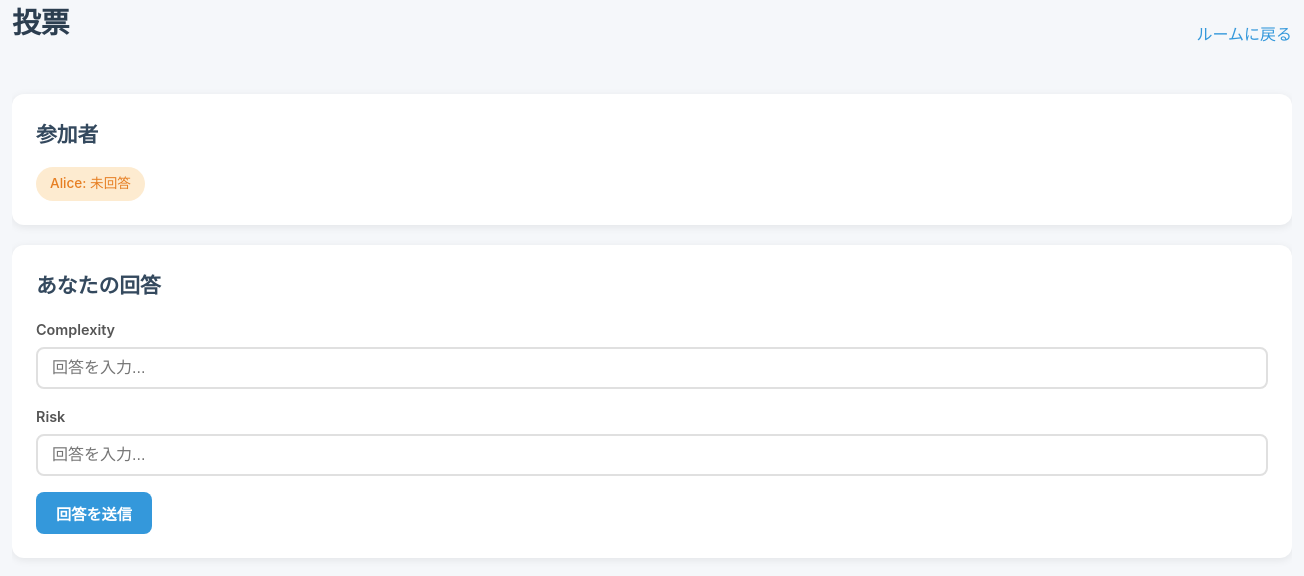
Test case: VotingPage › submits answers
Expected: the text "Complexity" is shown, [36, 321, 115, 338]
Type "3" into the field with placeholder "回答を入力..." below "Complexity".
click(652, 368); type("3")  # box [36, 347, 1268, 389]
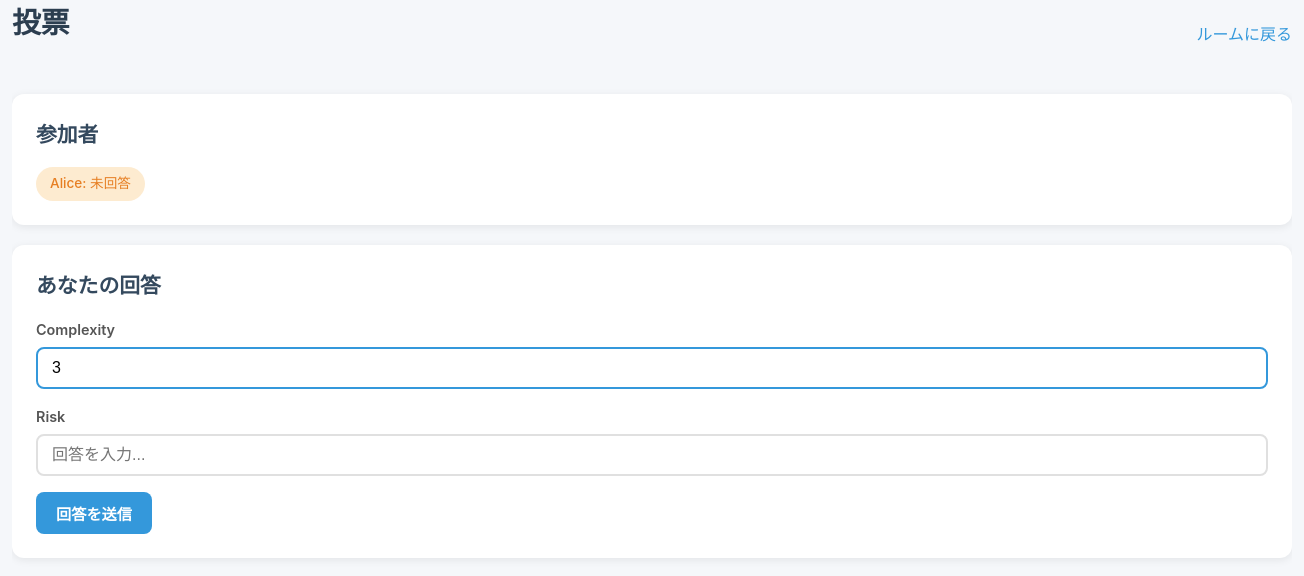
Type "5" into the field with placeholder "回答を入力...".
click(652, 455); type("5")  # box [36, 434, 1268, 476]
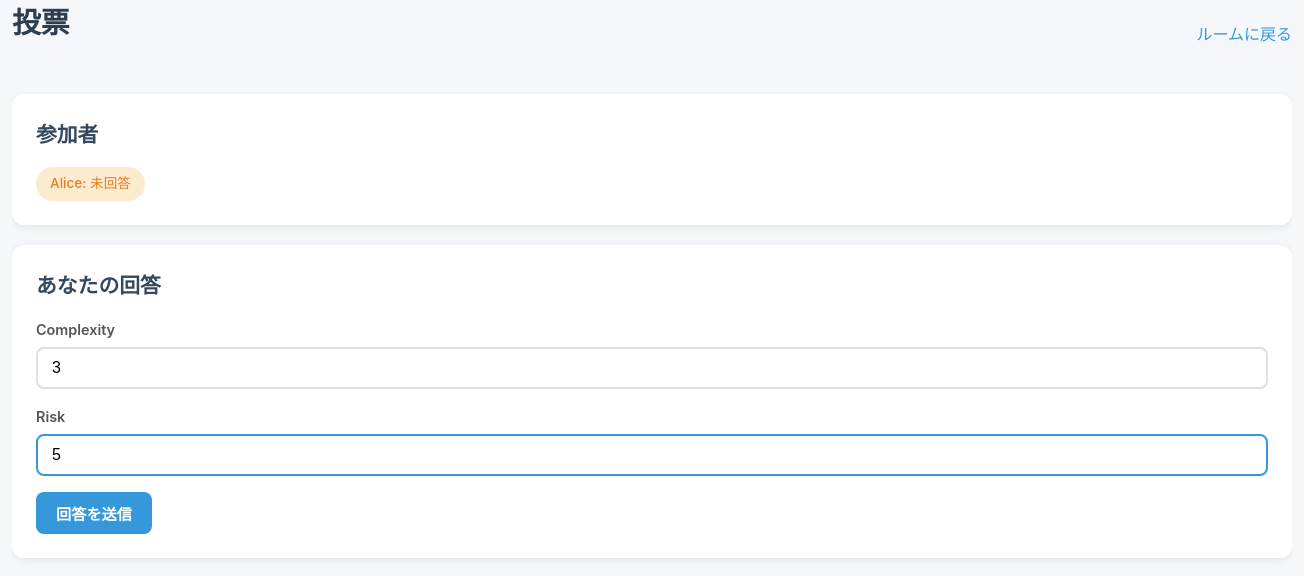
Click the button "回答を送信".
click(94, 513)  # box [36, 492, 152, 534]
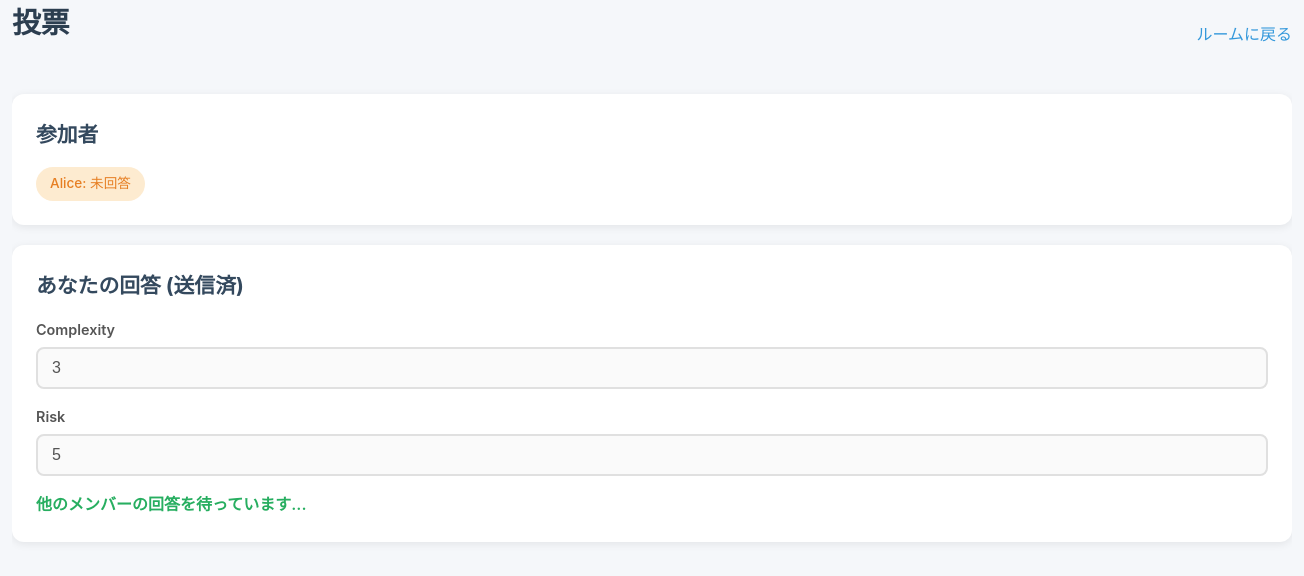
Expected: the text "他のメンバーの回答を待っています..." is shown, [36, 494, 306, 514]
